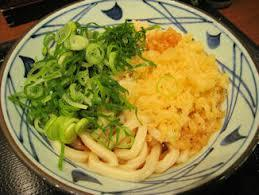bukkake: (3, 1, 259, 192)
